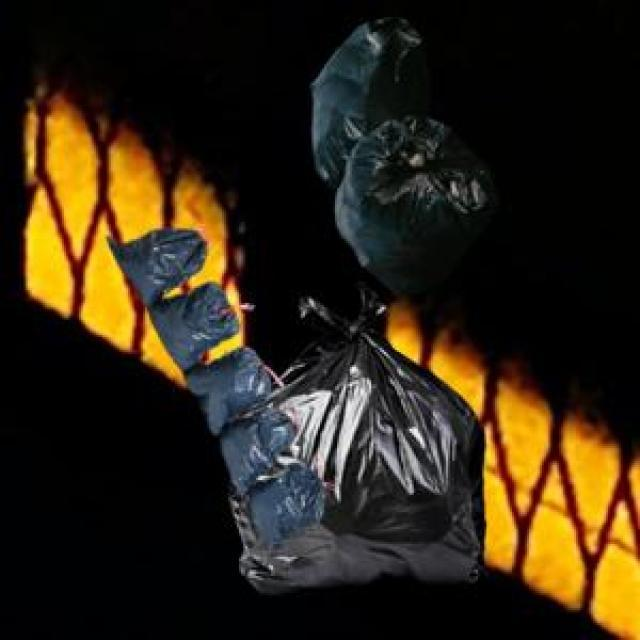waste: (112, 230, 482, 591), (312, 19, 496, 294)
